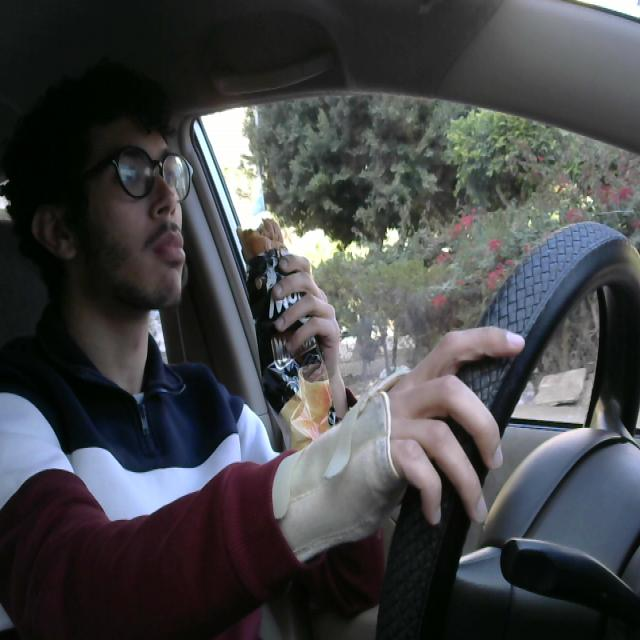eating: (227, 220, 353, 472)
